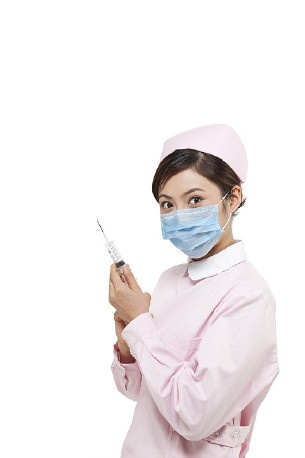Mask: (157, 185, 232, 261)
